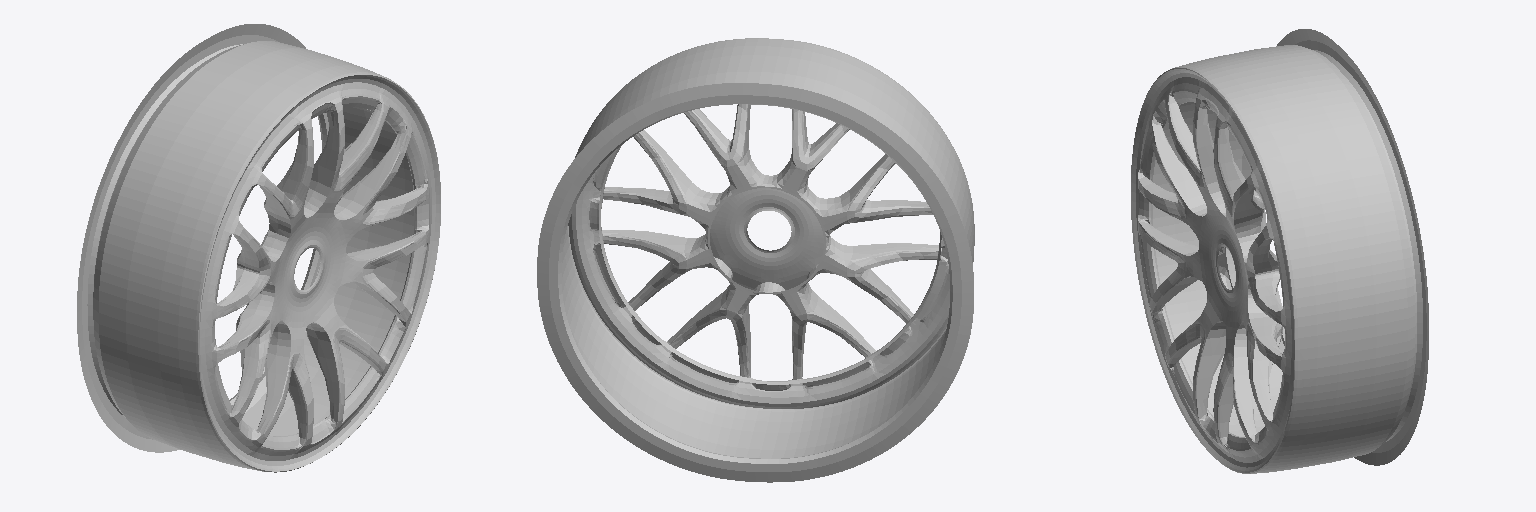
Rendered from bmw.obj.
The picture shows the model from 3 angles: view 1: azimuth 30°, elevation 25°; view 2: azimuth 150°, elevation 25°; view 3: azimuth 270°, elevation 25°; orthographic projection.
Parts seen in each view (by area): view 1: TireRim_Plane; view 2: TireRim_Plane; view 3: TireRim_Plane.
Part boxes in pixels (bbox=[...]): TireRim_Plane: bbox=[77, 24, 440, 472]; TireRim_Plane: bbox=[537, 38, 974, 482]; TireRim_Plane: bbox=[1131, 29, 1428, 473].
Bounding box in the file's own units: 1.66 × 1.64 × 1.11.